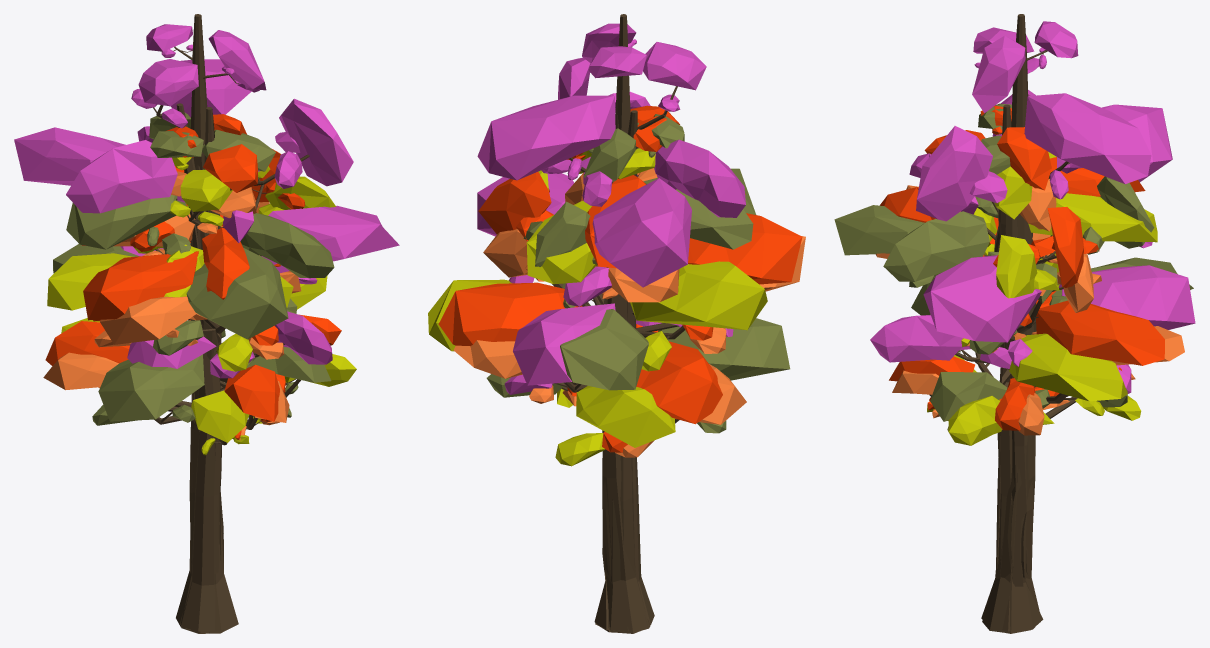
File: arvoresnovas (1).glb
3 views of the same model, side by side, from view 1: azimuth 30°, elevation 25°; view 2: azimuth 150°, elevation 25°; view 3: azimuth 270°, elevation 25° (orthographic).
Visible parts, largest first — view 1: arvore 5, arvore 1, arvore 2, arvore 4, arvore 3; view 2: arvore 5, arvore 2, arvore 1, arvore 4, arvore 3; view 3: arvore 5, arvore 4, arvore 1, arvore 2, arvore 3.
Boxes of the visible parts, x1,y1,x2,y2 form: arvore 5: (14,14,399,632); arvore 1: (53,103,334,631); arvore 2: (45,107,341,630); arvore 4: (47,157,356,633); arvore 3: (43,164,301,623); arvore 5: (477,14,745,633); arvore 2: (438,105,802,531); arvore 1: (486,110,790,625); arvore 4: (428,148,767,632); arvore 3: (453,168,805,631); arvore 5: (870,14,1195,633); arvore 4: (927,152,1157,633); arvore 1: (834,95,1193,569); arvore 2: (880,104,1164,631); arvore 3: (875,178,1184,631).
Size of the model in its own units: 33.61 by 62.46 by 33.8.
